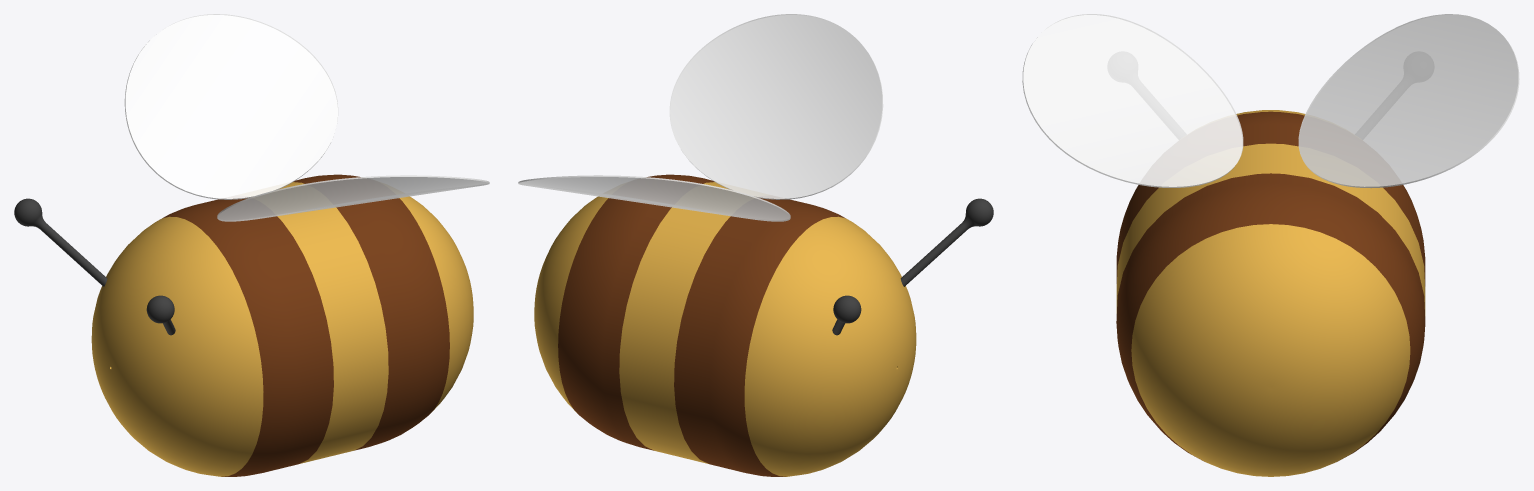
The model's file is bee.glb.
The picture shows the model from 3 angles, left to right: view 1: azimuth 30°, elevation 25°; view 2: azimuth 150°, elevation 25°; view 3: azimuth 270°, elevation 25°; orthographic projection. The views are drawn at different scales.
Parts seen in each view (by area): view 1: Bee Body, wingl, wingr; view 2: Bee Body, wingr, wingl; view 3: Bee Body, wingl, wingr.
Part boxes in pixels (left/top/right/bottom): Bee Body: left=14, top=174, right=473, bottom=476; wingl: left=124, top=14, right=338, bottom=199; wingr: left=217, top=175, right=489, bottom=221; Bee Body: left=534, top=174, right=993, bottom=476; wingr: left=669, top=14, right=883, bottom=199; wingl: left=518, top=175, right=790, bottom=221; Bee Body: left=1116, top=110, right=1425, bottom=476; wingl: left=1298, top=14, right=1519, bottom=188; wingr: left=1022, top=14, right=1243, bottom=187.
Bounding box in the file's own units: 0.828 × 0.7497 × 0.8566.
